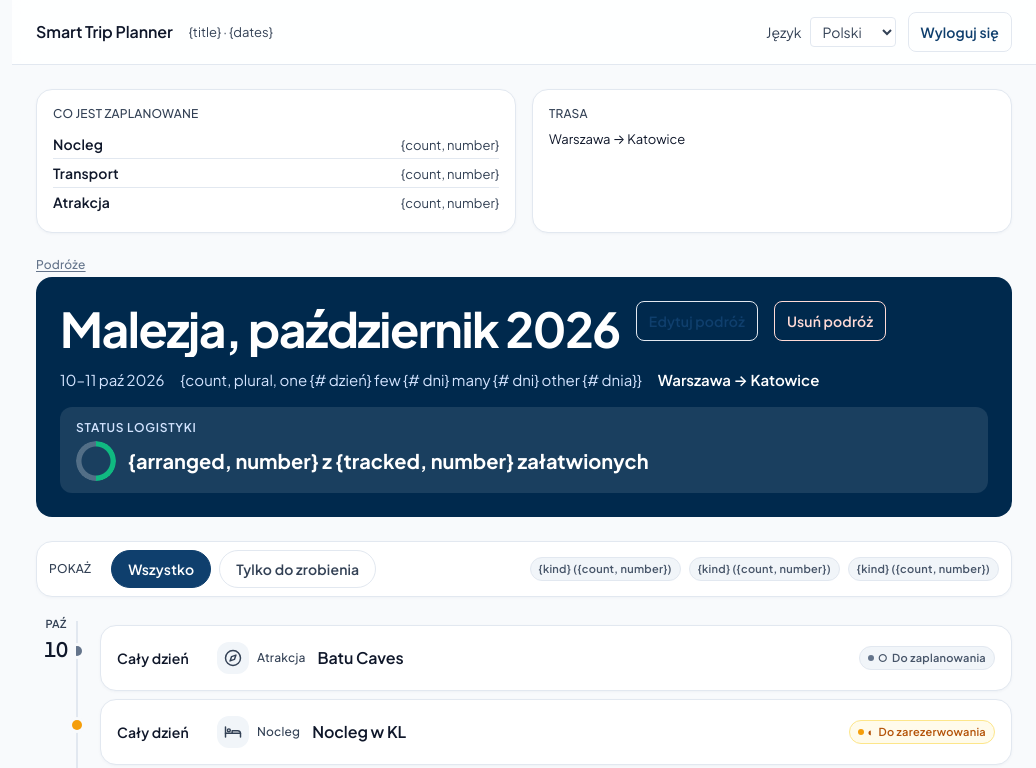
it: the filter bar on the timeline › reflects the filter in the URL
The image size is (1036, 768).
Click the radio button labelled "Tylko do zrobienia": (298, 569) [219, 550, 376, 588]
(page scrolled)
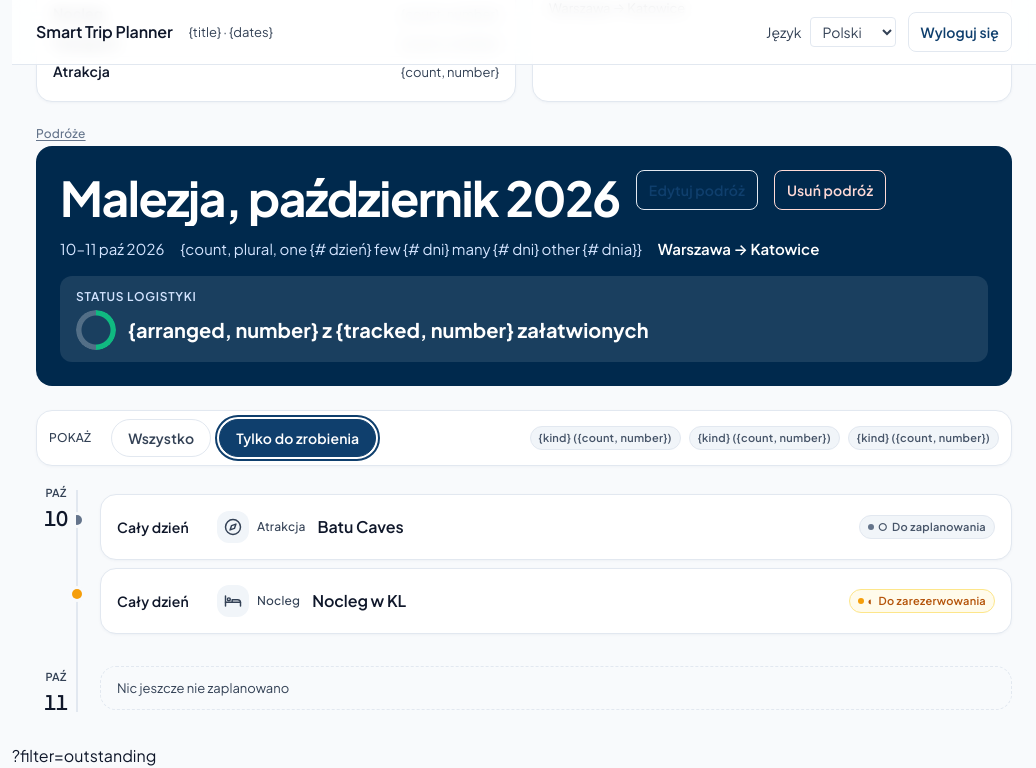
Check: the text with test id "location-search" reads "?filter=outstanding", box [12, 745, 156, 766]
